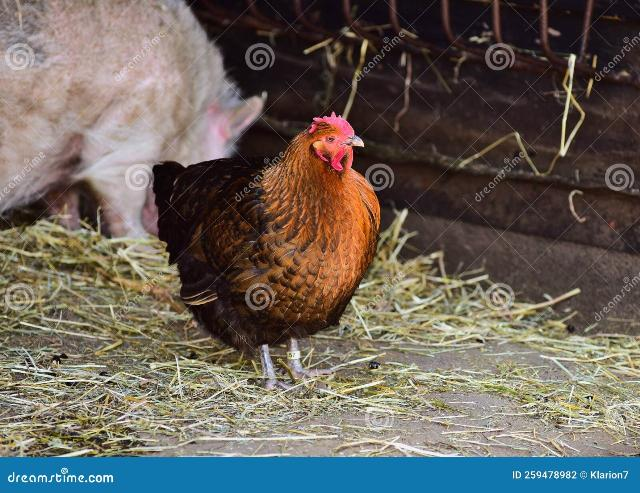Chicken: (154, 111, 382, 384)
